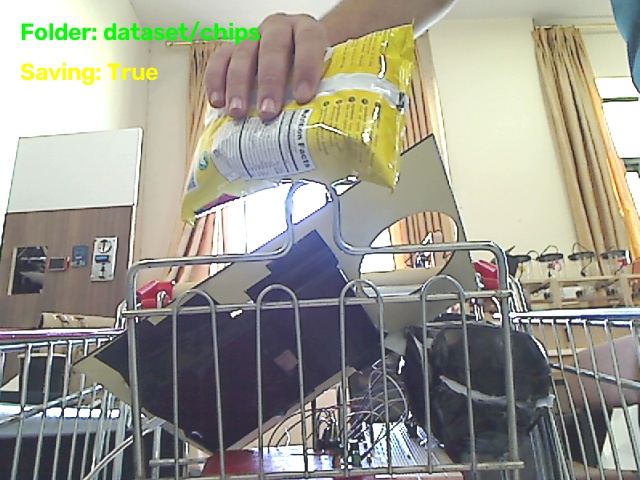chips: (182, 25, 414, 221)
